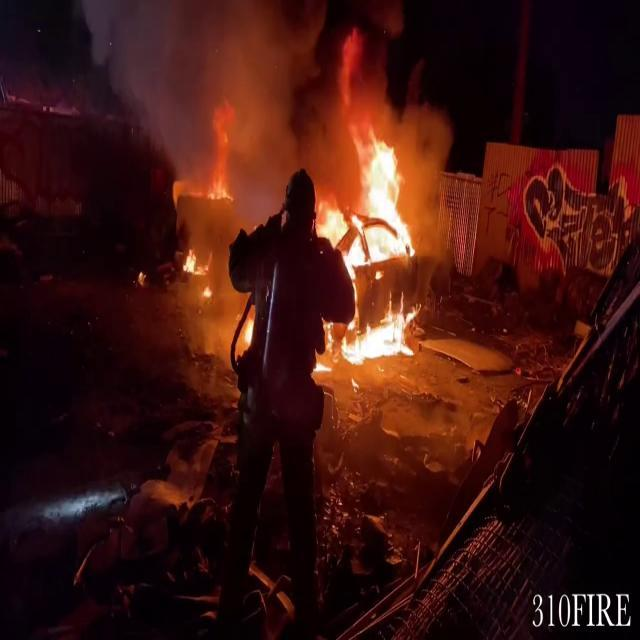Fire: (316, 125, 426, 368)
Smoke: (100, 1, 348, 194)
